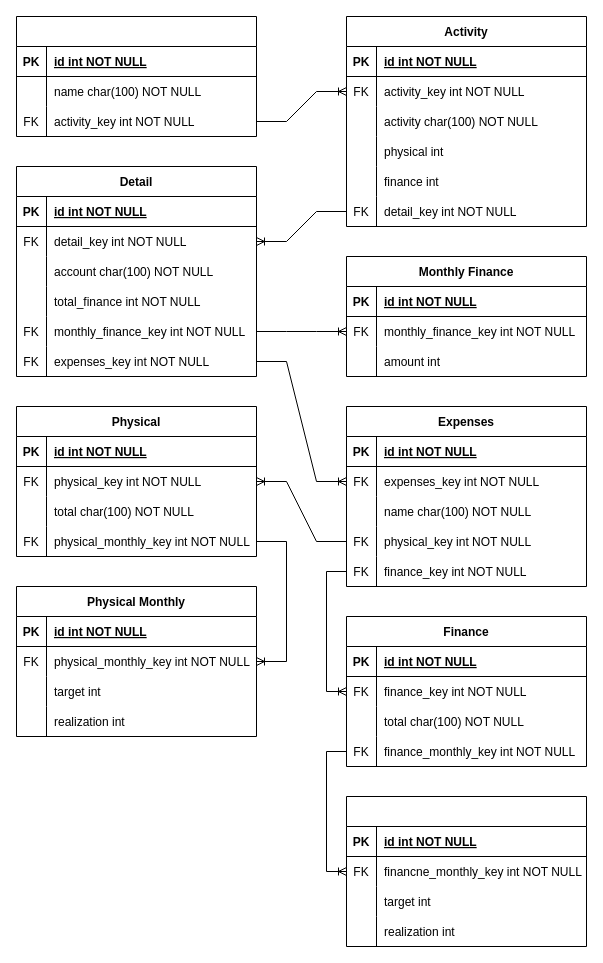
This 603x963 diagram has some shape labels left out. The shapes that lost their labels are listed below. From the top down, each one's box as (x1, y1, x2, y2) in pixels, then its label:
(16, 16, 256, 136): Division
(346, 796, 586, 946): Finance Monthly
